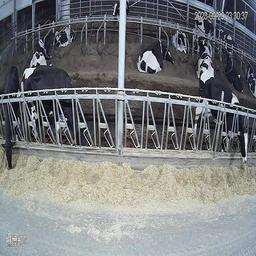cow: (23, 66, 89, 148), (198, 67, 247, 157), (1, 64, 22, 170), (135, 39, 175, 74), (223, 49, 244, 91), (194, 41, 214, 81), (29, 33, 52, 65), (54, 25, 76, 48), (194, 16, 217, 38), (112, 1, 129, 30), (171, 30, 188, 58), (218, 26, 234, 54), (246, 64, 256, 97)
